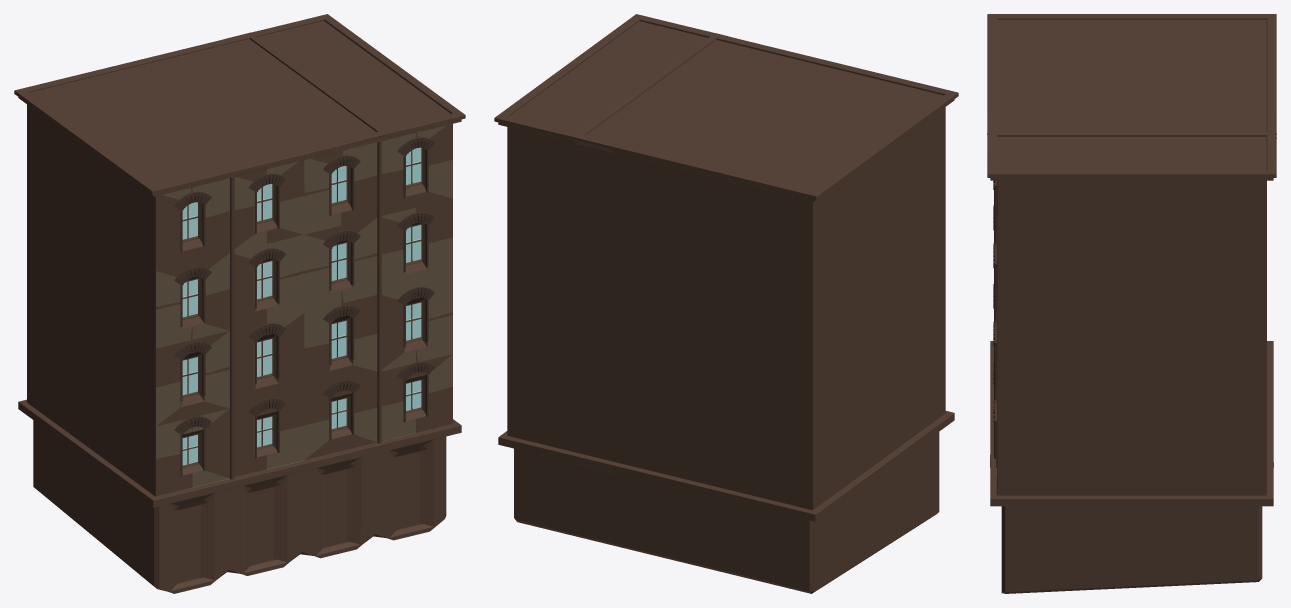
The model's file is buildingberlin3.fbx.
3 views of the same model, side by side, from view 1: azimuth 30°, elevation 25°; view 2: azimuth 150°, elevation 25°; view 3: azimuth 270°, elevation 25° (orthographic). The views are drawn at different scales.
Parts seen in each view (by area): view 1: Cube.005, Cube.006, Cube.007, Cylinder.005, Cylinder.007; view 2: Cube.005, Cube.006; view 3: Cube.005, Cube.006, Cube.007, Cylinder.007.
Boxes of the visible parts, x1,y1,x2,y2 form: Cube.005: (14,14,465,507); Cube.006: (33,420,446,593); Cube.007: (174,137,434,476); Cylinder.005: (230,177,234,479); Cylinder.007: (377,141,381,443); Cube.005: (494,14,958,521); Cube.006: (514,432,939,593); Cube.005: (987,14,1276,506); Cube.006: (1001,506,1262,593); Cube.007: (993,180,996,467); Cylinder.007: (994,187,996,458).
Size of the model in its own units: 422 by 534 by 322.
